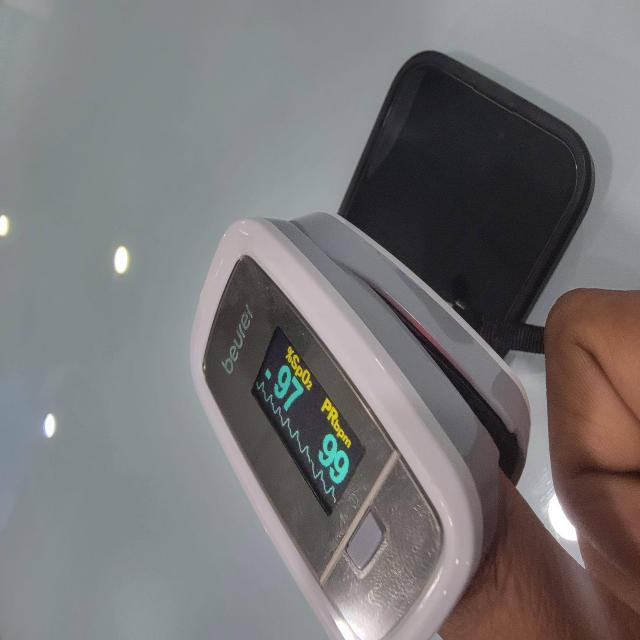spo2: (189, 214, 528, 640)
